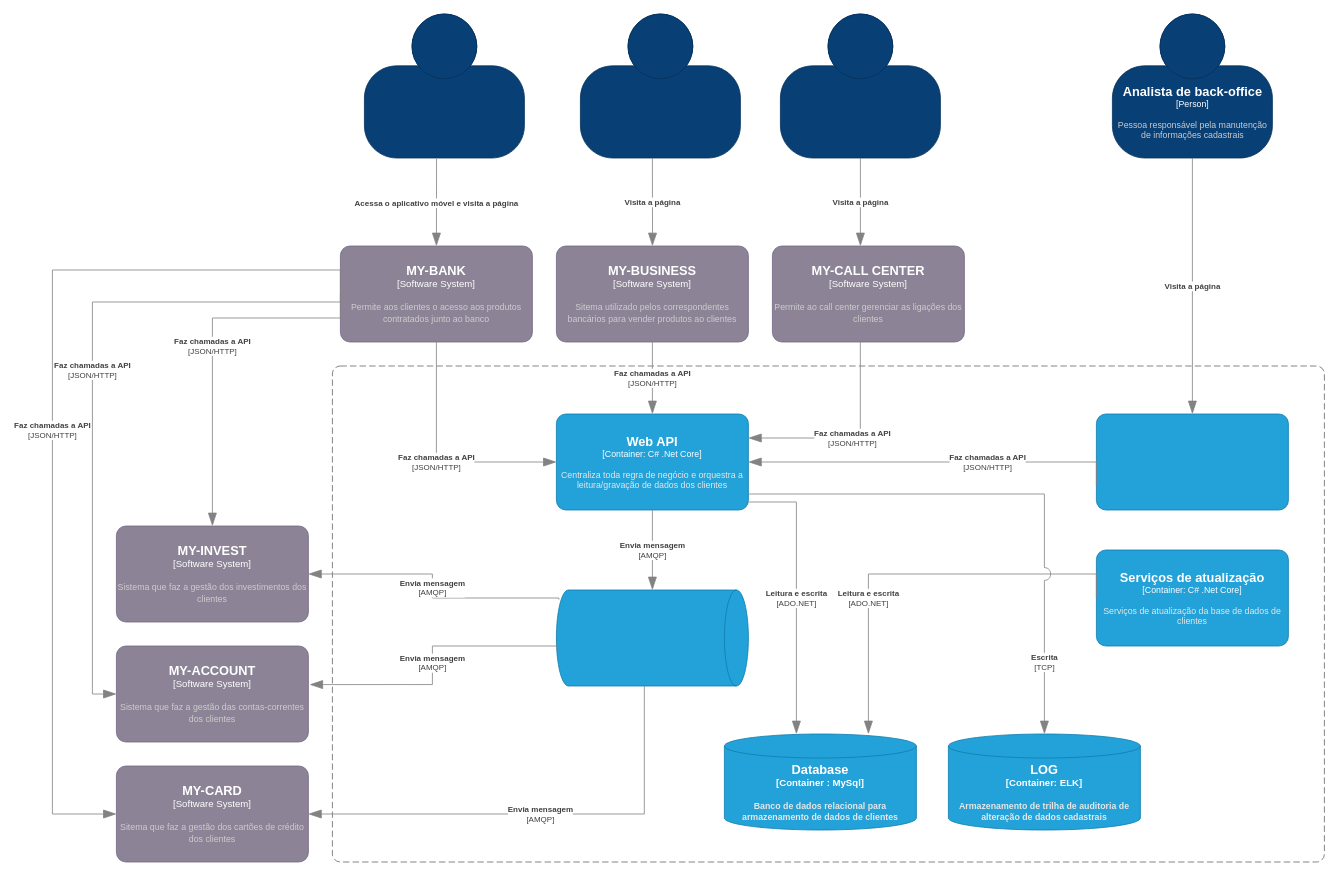
This 1338x876 diagram has some shape labels left out. Each missing label, with the box of its shape:
Cliente [Person] Cliente do banco: (364, 13, 524, 158)
Correspondente [Person] Correspondente bancário: (580, 13, 740, 158)
Diagrama de containers [My-Customers]: (332, 365, 1324, 862)
Operador call center [Person] Operador de call center: (780, 13, 940, 158)
Service BUS [Container : RabbitMQ] Sistema de mensageria: (556, 589, 748, 686)
Single-Page Application [Container: Angular] Aplicação web My-Customers: (1096, 413, 1288, 510)
